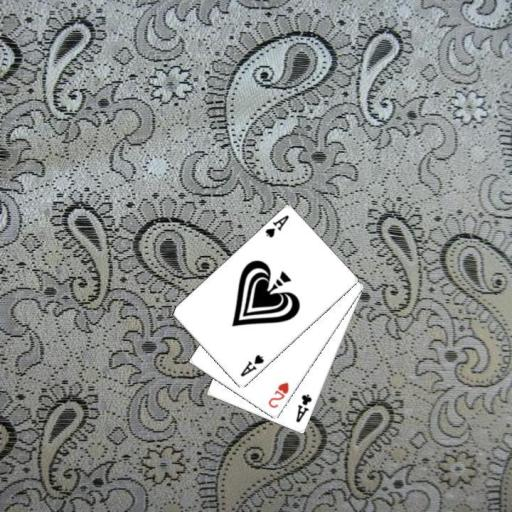2H: (265, 379, 290, 410)
AC: (293, 391, 314, 424)
AS: (262, 212, 291, 240), (238, 352, 265, 378)
